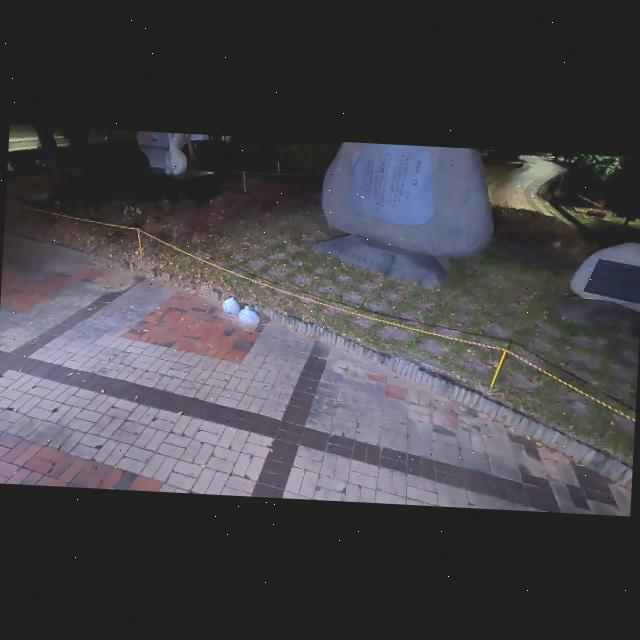trash: (237, 306, 265, 328), (220, 294, 242, 316)
